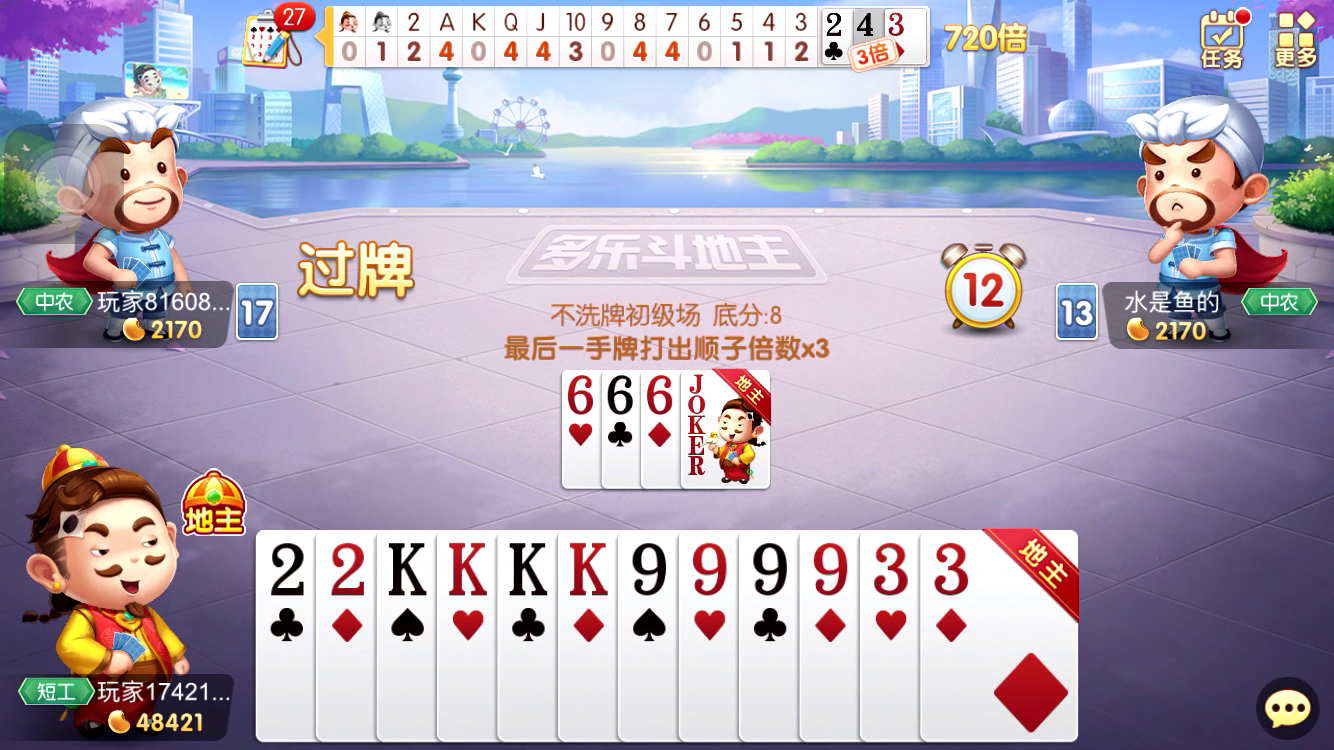JOKER: (682, 370, 714, 441)
K: (502, 535, 554, 604), (381, 537, 432, 606), (441, 535, 493, 602), (563, 535, 613, 604)
four: (857, 11, 881, 45)
nine: (743, 537, 798, 607), (622, 537, 675, 605), (804, 538, 856, 606), (683, 538, 733, 603)
six: (561, 372, 600, 420), (642, 372, 679, 421), (603, 371, 639, 421)
three: (925, 538, 980, 605), (865, 539, 918, 604), (886, 13, 907, 43)
two: (321, 538, 373, 605), (262, 539, 312, 606), (822, 10, 848, 44)
